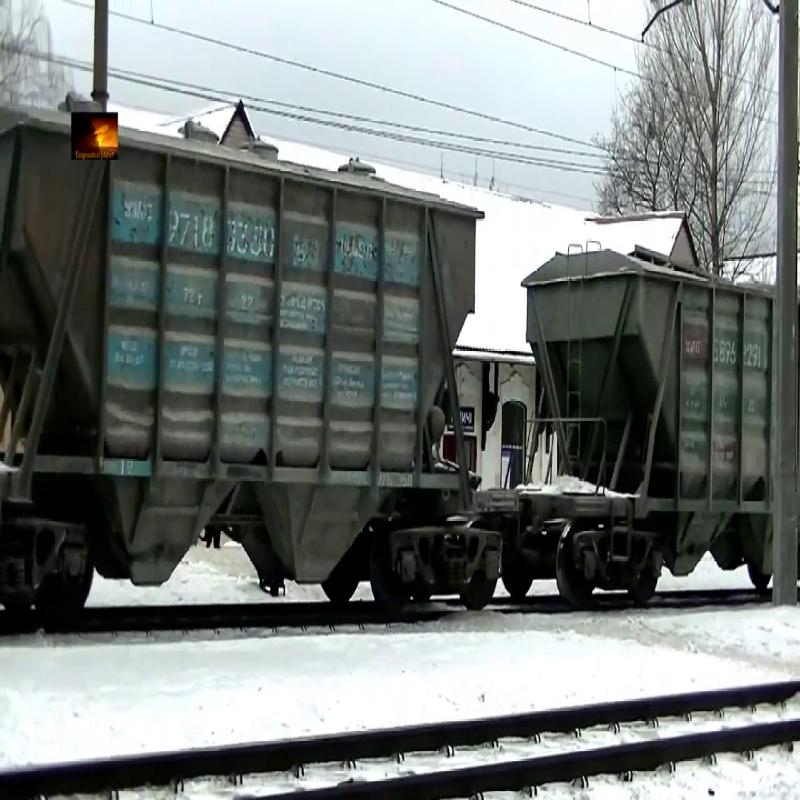train: (1, 113, 486, 608), (523, 259, 776, 603)
